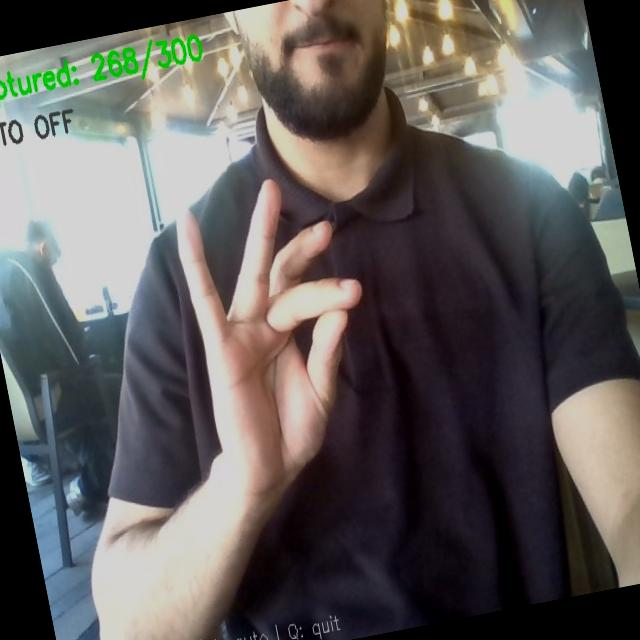Hand: (177, 181, 361, 497)
